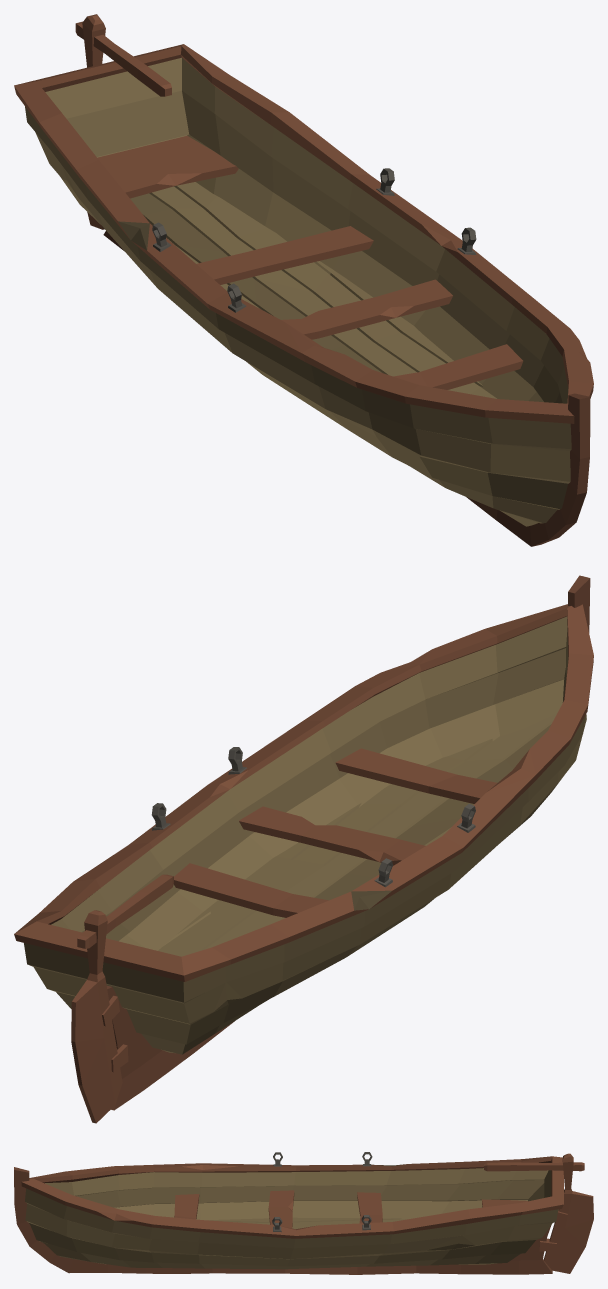
Rendered from BoatLarge_3.fbx.
The picture shows the model from 3 angles, top to bottom: view 1: azimuth 30°, elevation 25°; view 2: azimuth 150°, elevation 25°; view 3: azimuth 270°, elevation 25°; orthographic projection. The views are drawn at different scales.
Visible parts, largest first — view 1: BoatLarge_3, Boat_3_Rudder; view 2: BoatLarge_3, Boat_3_Rudder; view 3: BoatLarge_3, Boat_3_Rudder.
Part boxes in pixels (box(x1,y1,x2,y2)): BoatLarge_3: box(14, 44, 593, 546); Boat_3_Rudder: box(75, 14, 171, 229); BoatLarge_3: box(14, 575, 593, 1110); Boat_3_Rudder: box(71, 874, 173, 1123); BoatLarge_3: box(14, 1152, 567, 1274); Boat_3_Rudder: box(484, 1153, 593, 1273).
Size of the model in its own units: 187 by 147 by 647.
